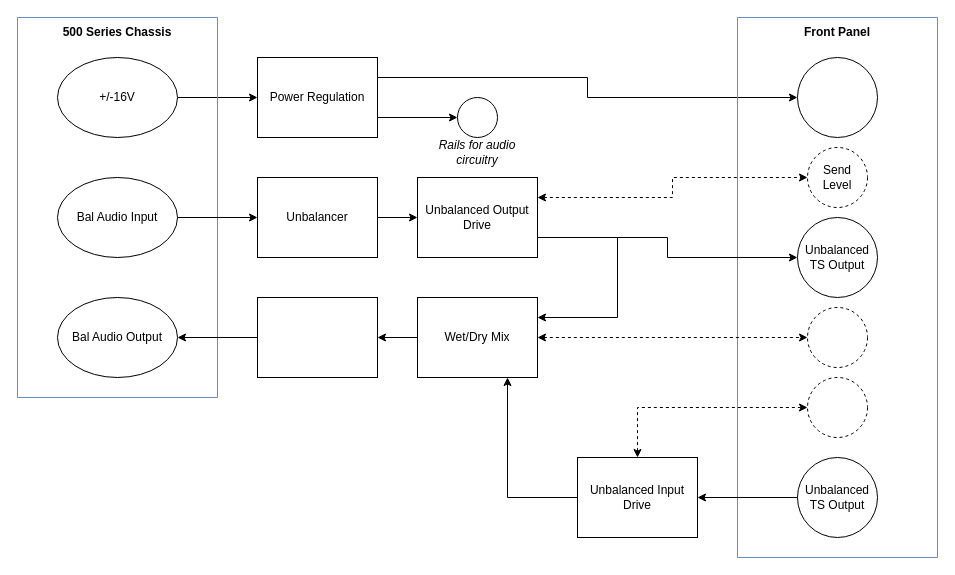
The diagram is 955 pixels wide and 575 high, and some of its shapes have lost their labels. Here are the shapes that lost their labels. From the top down, the centre of each, then its label:
the point at 477,117: +/-15V
the point at 837,97: 9V Outlet
the point at 317,337: Rebalancer
the point at 837,337: Wet/Dry
the point at 837,407: Return Level
